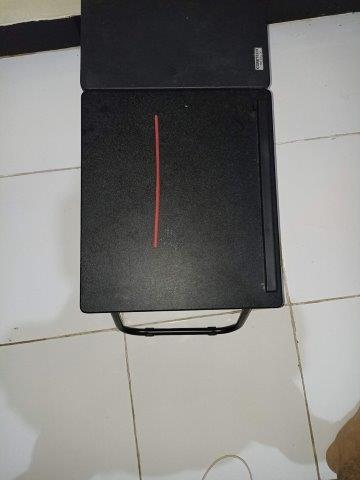sedotan: (153, 115, 160, 247)
